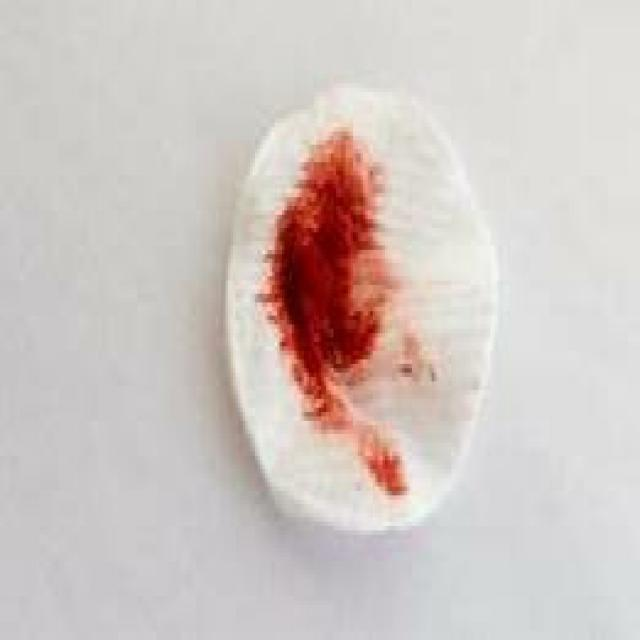wound: (254, 129, 446, 515)
